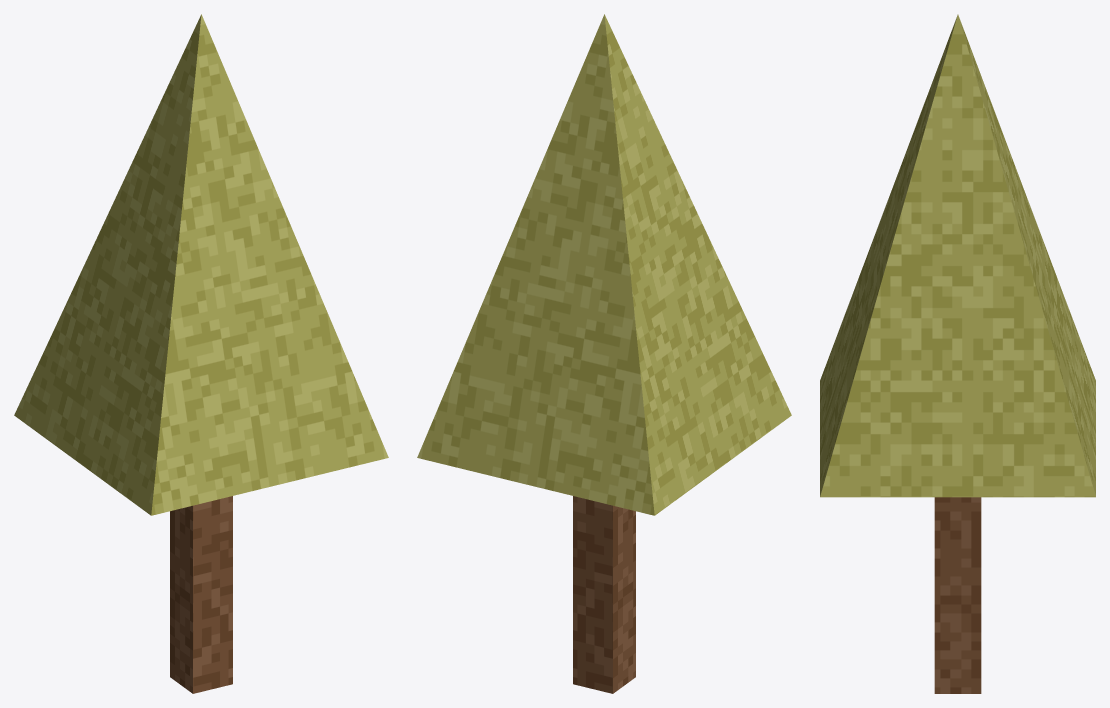
The model's file is ArbolEgiptoModeloA.fbx.
3 views of the same model, side by side, from view 1: azimuth 30°, elevation 25°; view 2: azimuth 150°, elevation 25°; view 3: azimuth 270°, elevation 25° (orthographic).
Visible parts, largest first — view 1: Arbol4; view 2: Arbol4; view 3: Arbol4.
Boxes of the visible parts, x1,y1,x2,y2 form: Arbol4: (14, 14, 388, 693); Arbol4: (417, 14, 791, 693); Arbol4: (820, 14, 1095, 693).
Bounding box in the file's own units: 4.71 × 12.61 × 4.71.
